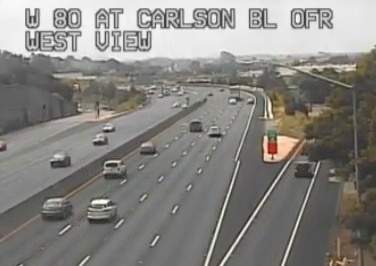car: (87, 199, 117, 220), (42, 197, 71, 217), (103, 160, 125, 177), (140, 142, 155, 154), (189, 120, 202, 131), (207, 126, 220, 136)
